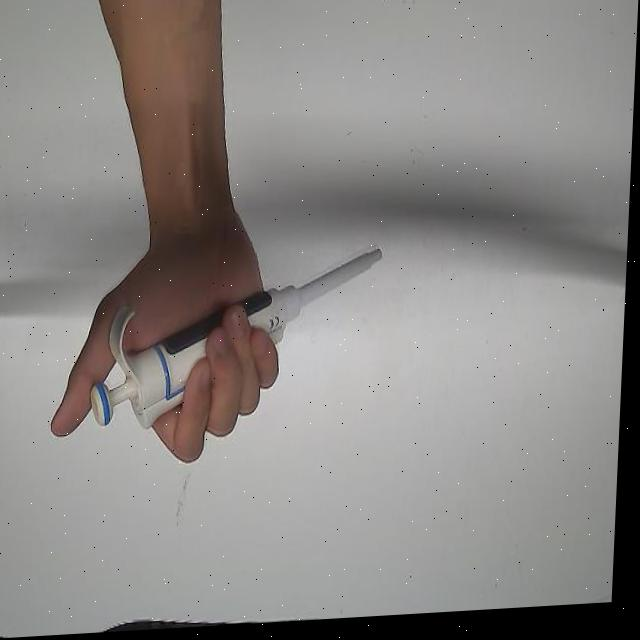Single Channel Pipettor: (91, 250, 389, 437)
